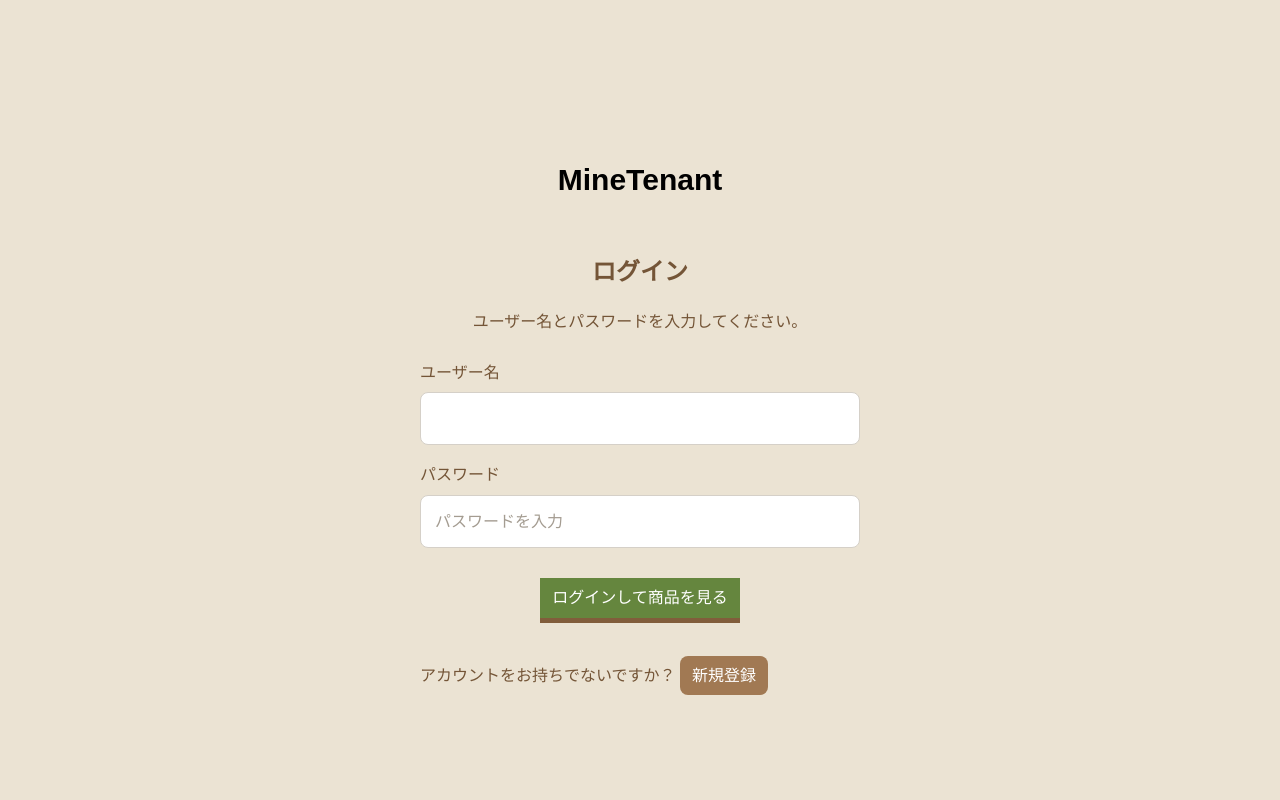
Test: MineTenant routes › ログインボタンから商品一覧へ遷移できる
Type "demo_user" into the field labelled "ユーザー名" at [640, 419], box [420,392,860,445]
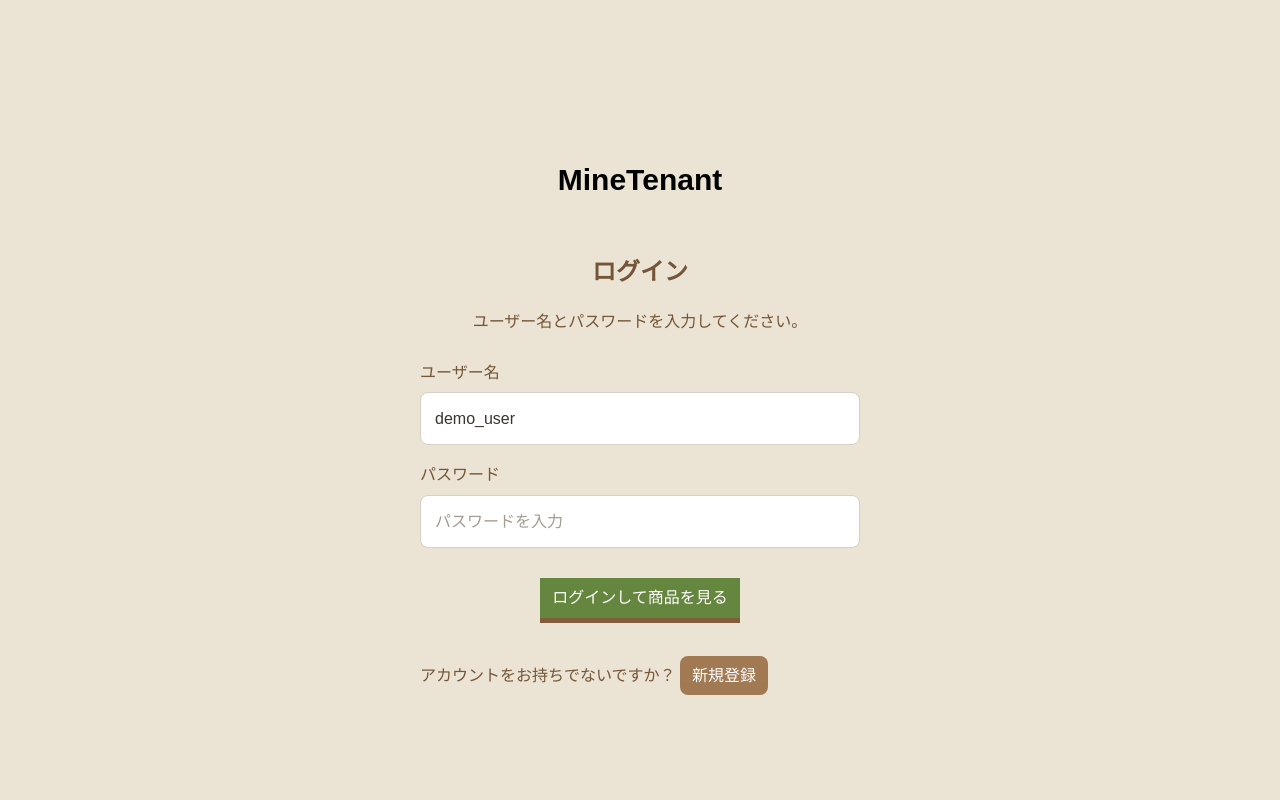
Type "password" into the password field labelled "パスワード" at [640, 521], box [420,495,860,548]
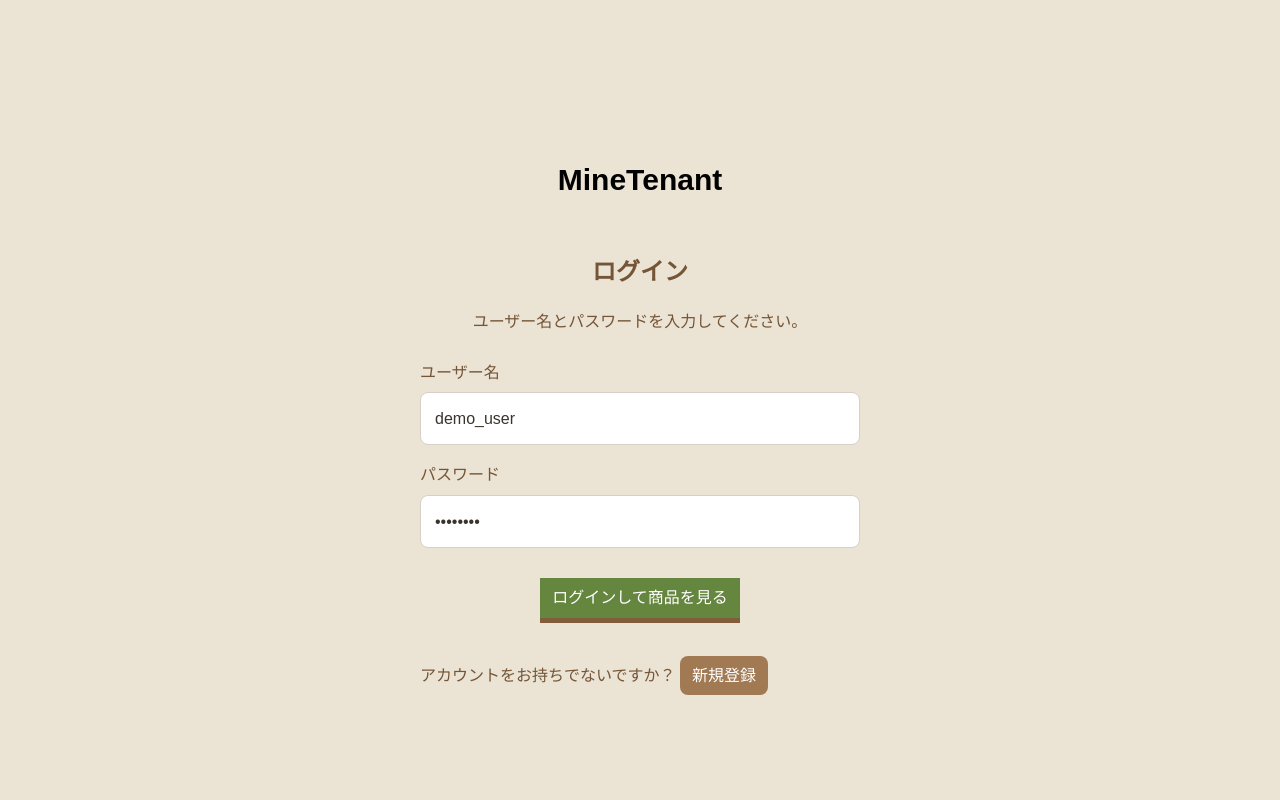
Click the button "ログインして商品を見る" at [640, 598], box [540,578,740,618]
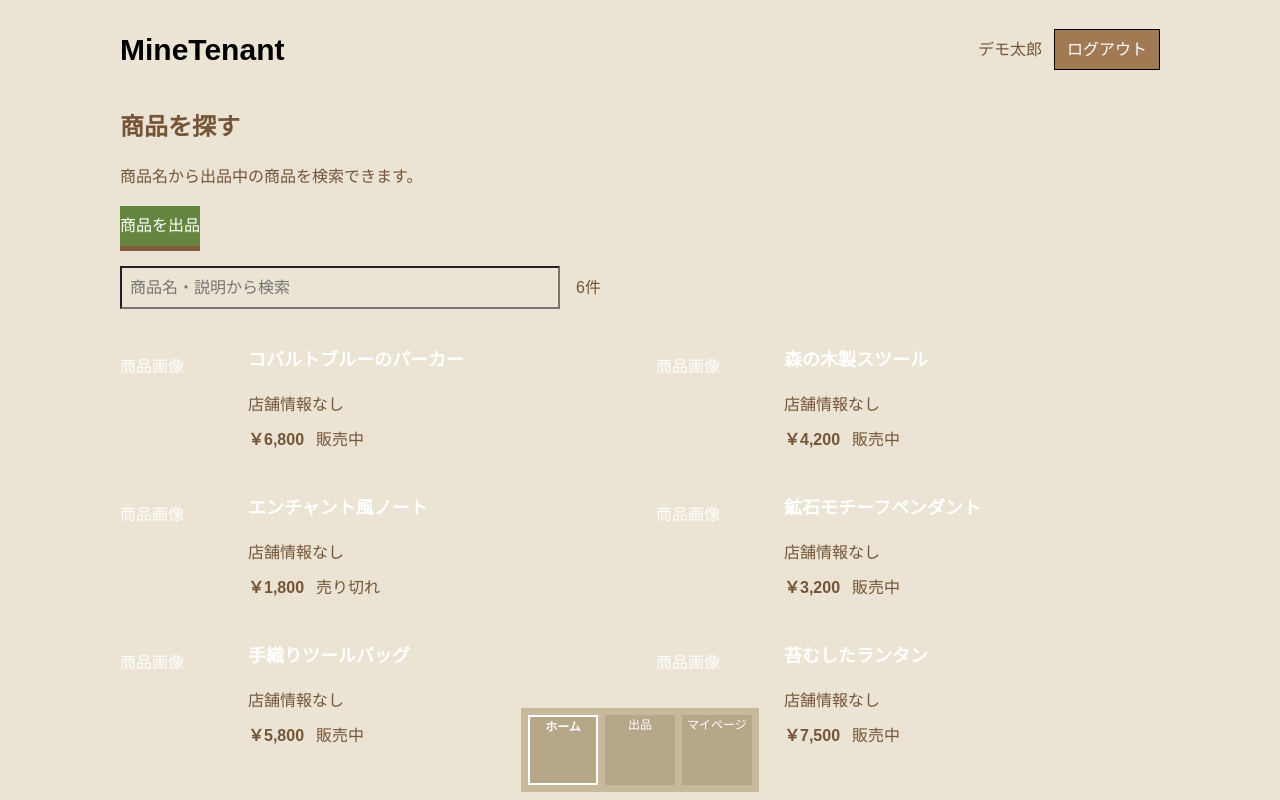
Now the heading "商品を探す" is shown, box [120,113,240,140]
Now the heading "コバルトブルーのパーカー" is shown, box [248,350,464,370]
